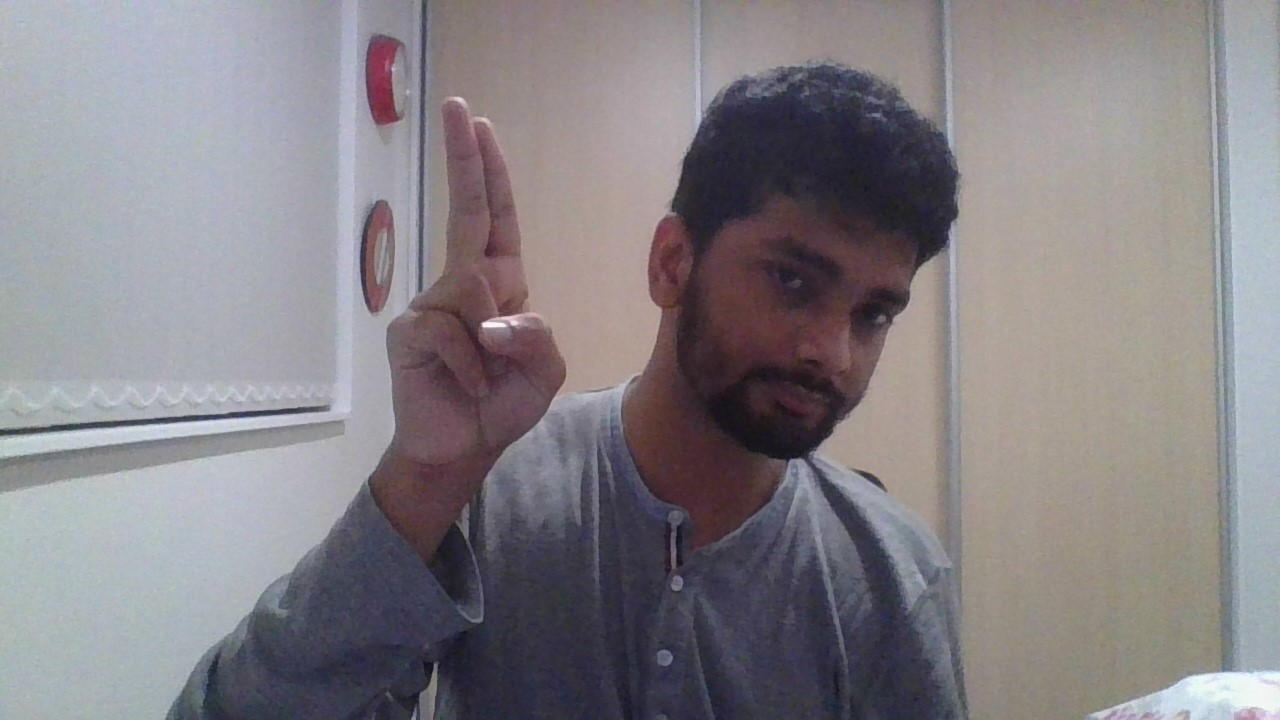peace: (386, 97, 566, 466)
